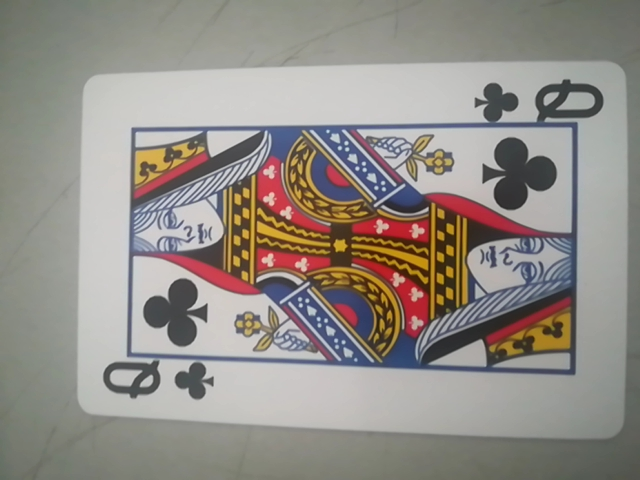mh q: (69, 59, 628, 439)
